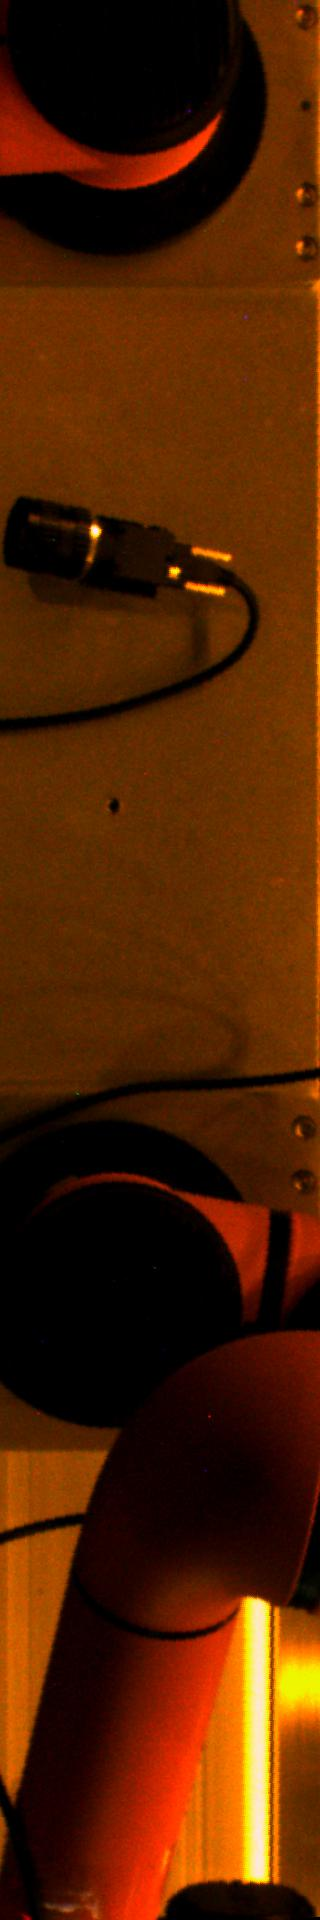keyPoint_2: (98, 792, 128, 822)
